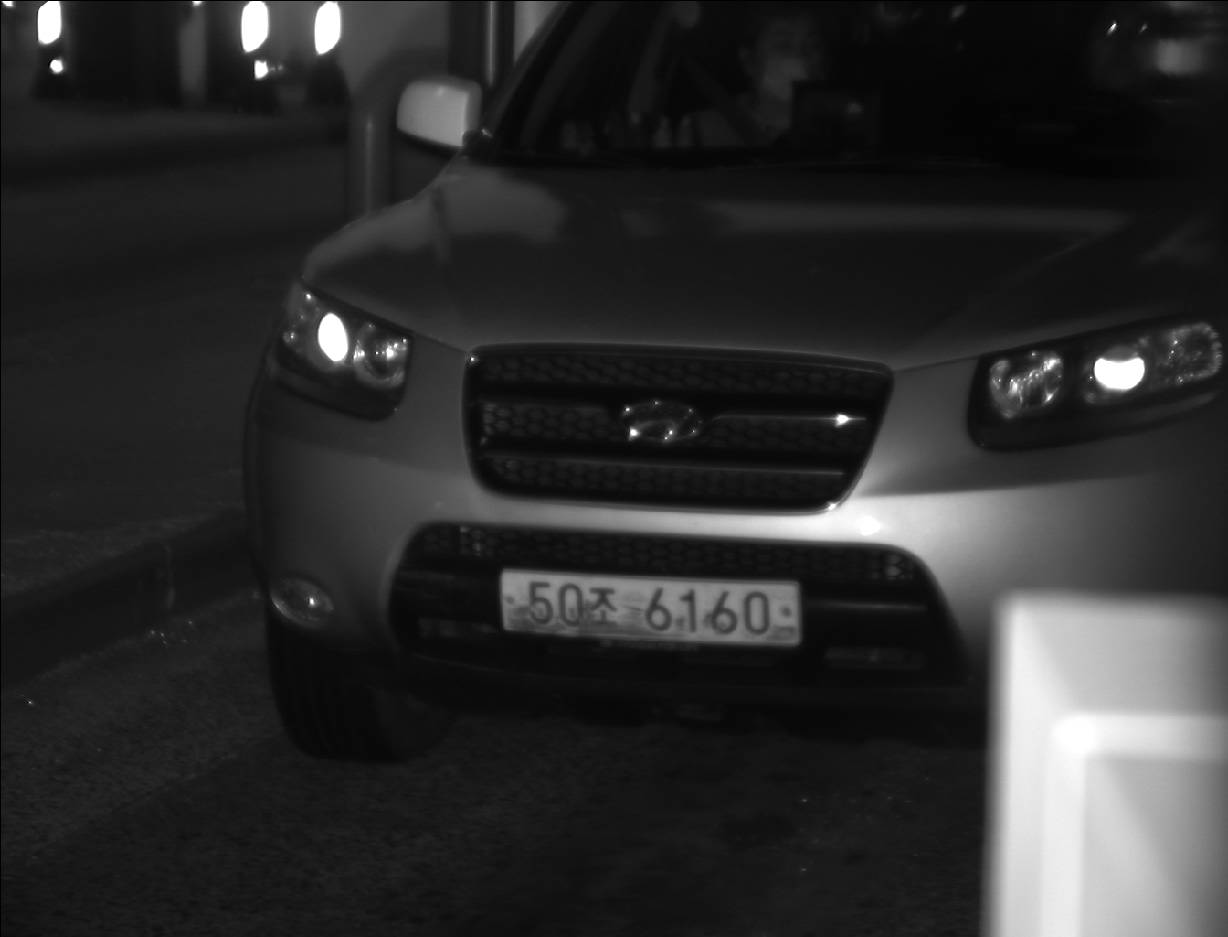car: (239, 1, 1228, 770)
plate: (494, 564, 806, 656)
